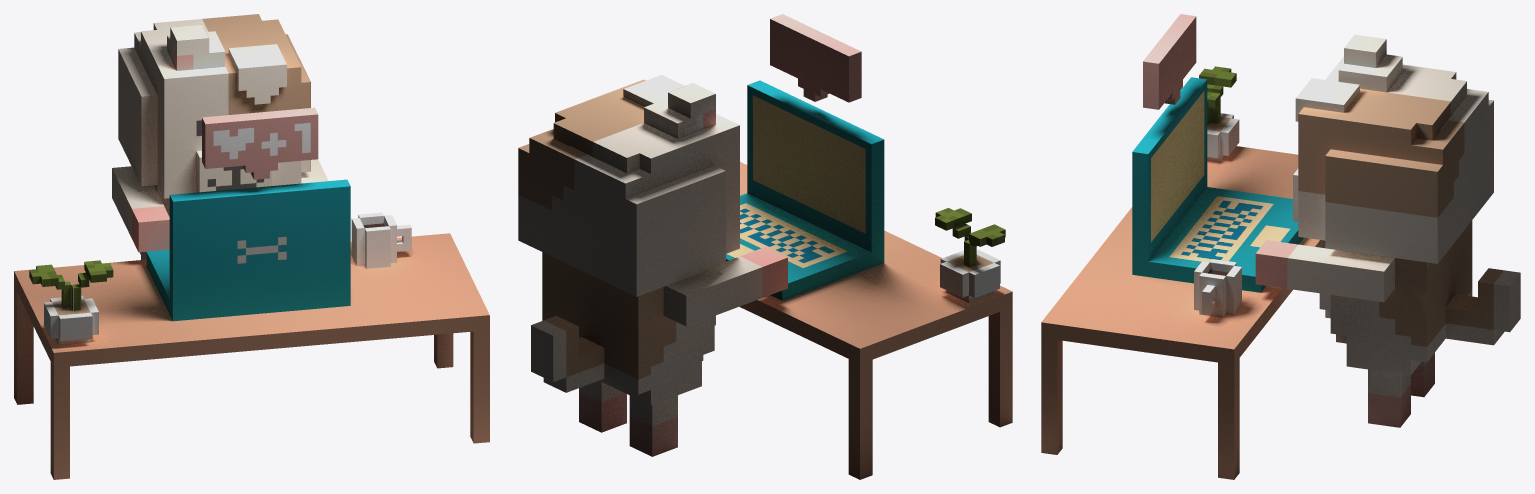
File: dog.glb
3 views of the same model, side by side, from view 1: azimuth 30°, elevation 25°; view 2: azimuth 150°, elevation 25°; view 3: azimuth 270°, elevation 25° (orthographic). The views are drawn at different scales.
Visible parts, largest first — view 1: node_id7; view 2: node_id7; view 3: node_id7.
Part boxes in pixels (bbox=[...]): node_id7: bbox=[14, 14, 489, 479]; node_id7: bbox=[518, 14, 1012, 479]; node_id7: bbox=[1041, 14, 1520, 479].
Size of what is drawn, in the model's own units: 0.1718 by 0.1265 by 0.1627.
1 material, 1 textured.
